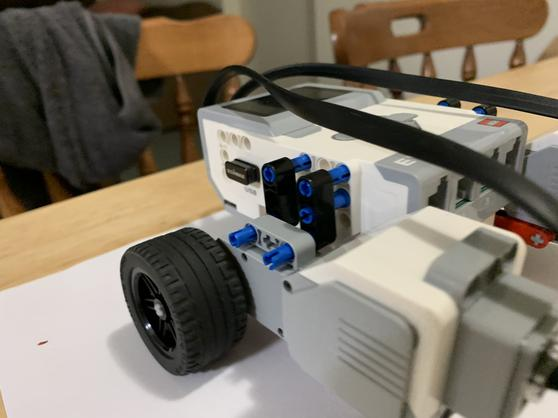robot: (120, 51, 558, 418)
